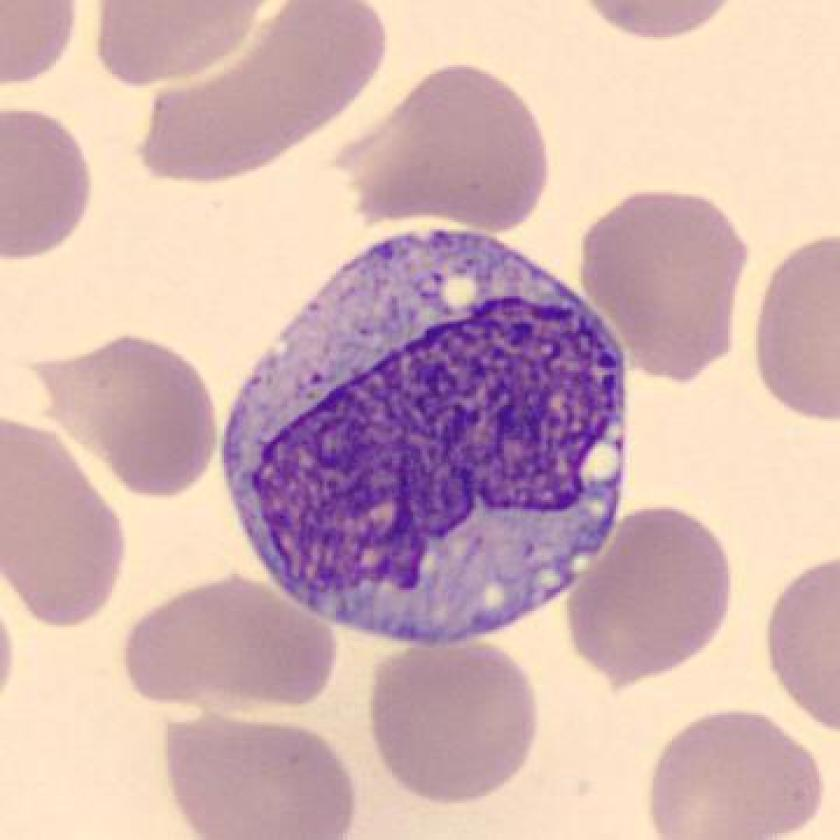monocyte: (202, 207, 650, 665)
